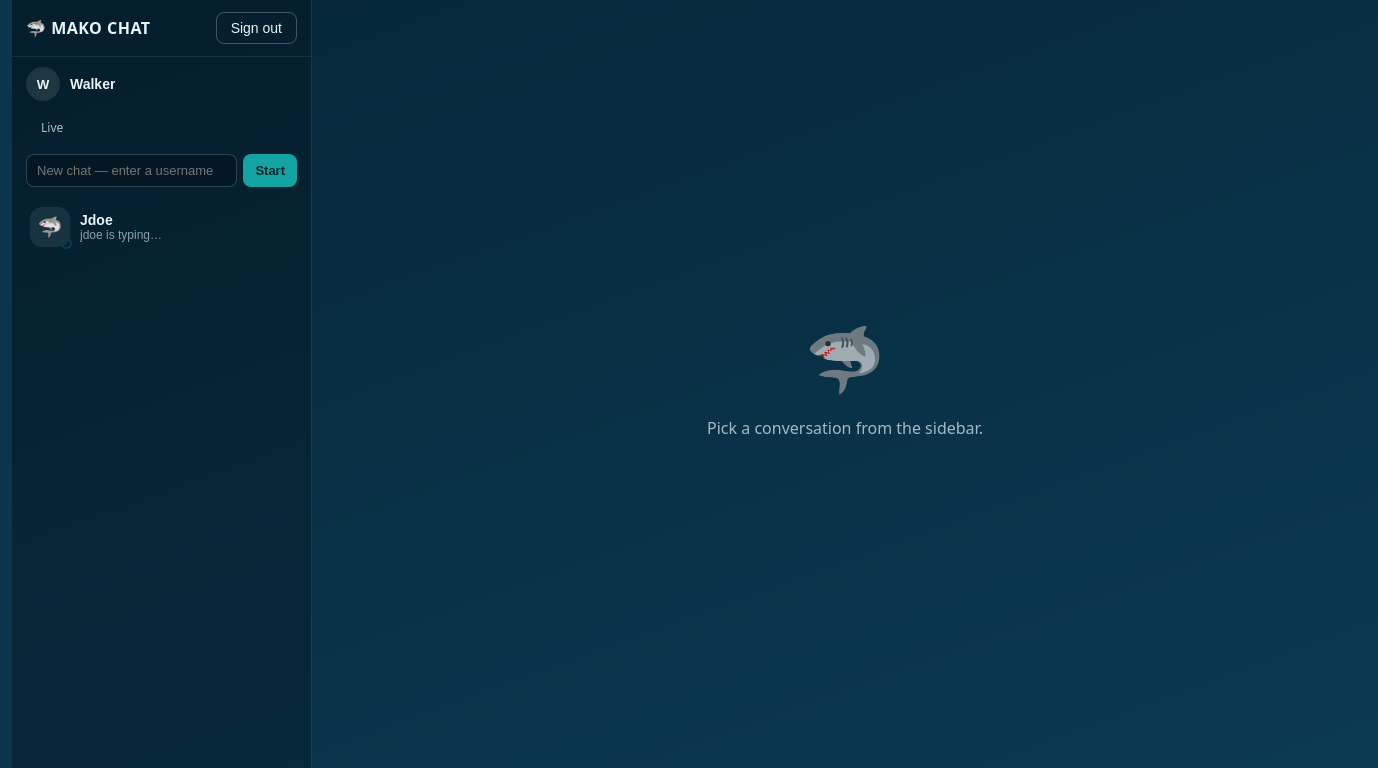
Test case: ChatShell: Batch 4 signals › renders the typing line and Seen state in the conversation
Click the text "Jdoe".
click(96, 220)  # box [80,212,113,228]
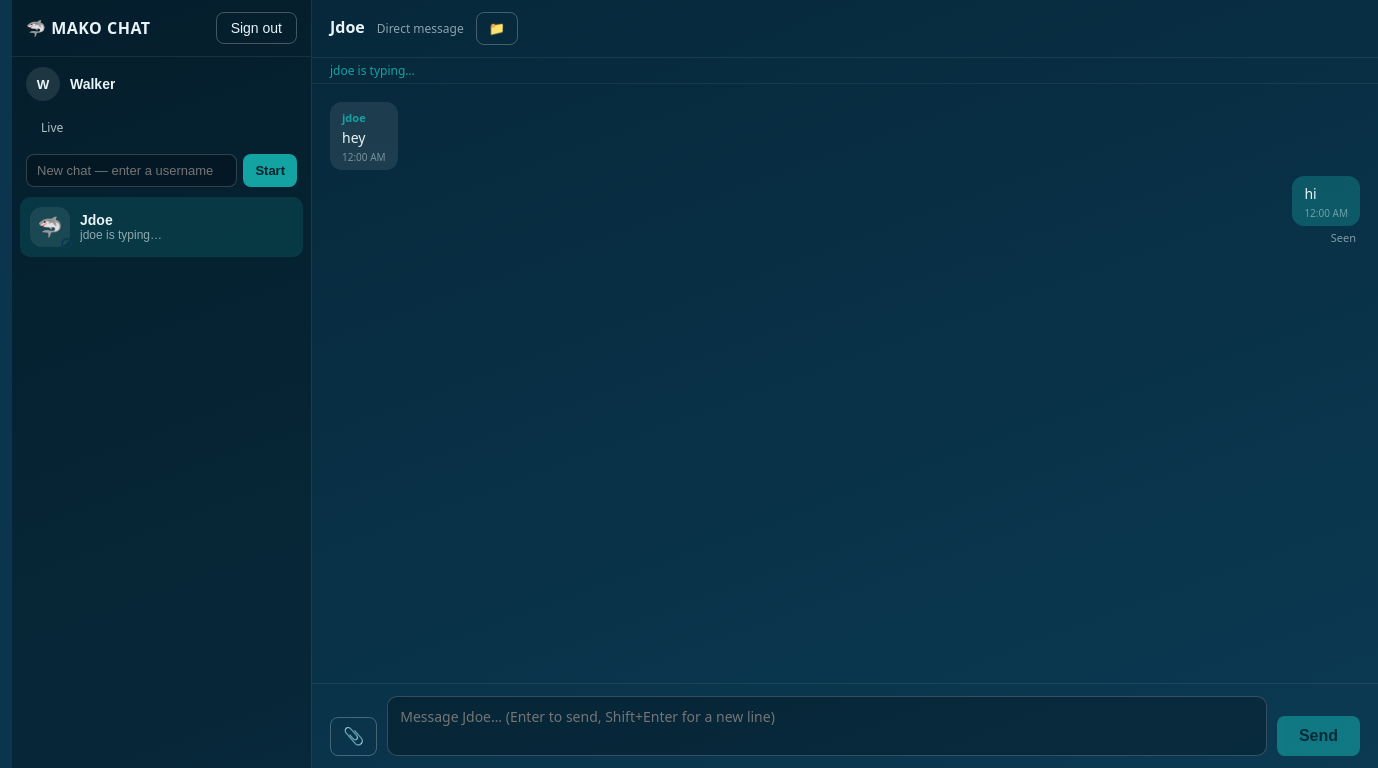
Expected: the text with class "typing-line" reads "jdoe is typing…", [330,62,415,79]
Expected: the text "Seen" is shown, [1331,230,1356,244]
